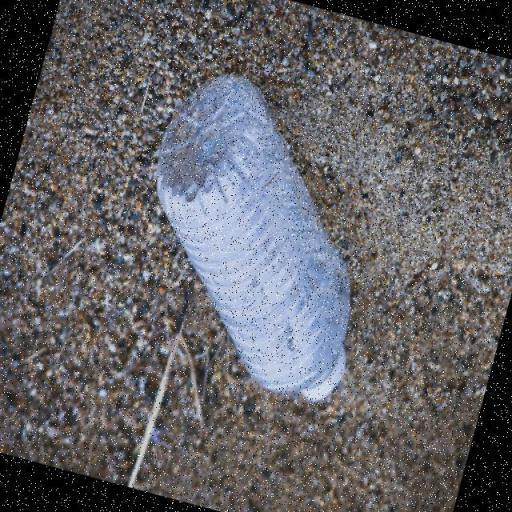bottle: (157, 75, 349, 400)
